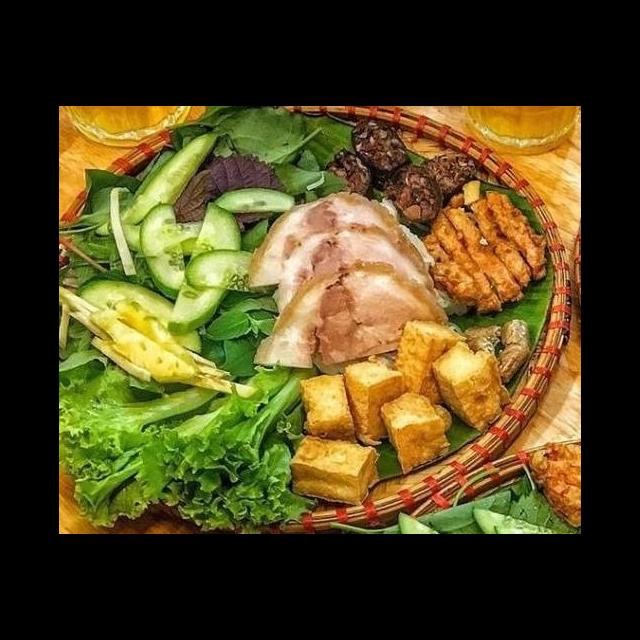bun dau: (88, 130, 576, 505)
cha com: (416, 178, 552, 319)
dau hu: (428, 338, 518, 438), (287, 432, 383, 512), (391, 317, 468, 411), (377, 389, 456, 477), (338, 355, 410, 450), (295, 370, 360, 451)
doi sun: (344, 110, 416, 179), (377, 161, 447, 227), (416, 147, 480, 206), (322, 147, 376, 196)
thit heo: (236, 186, 455, 377)
